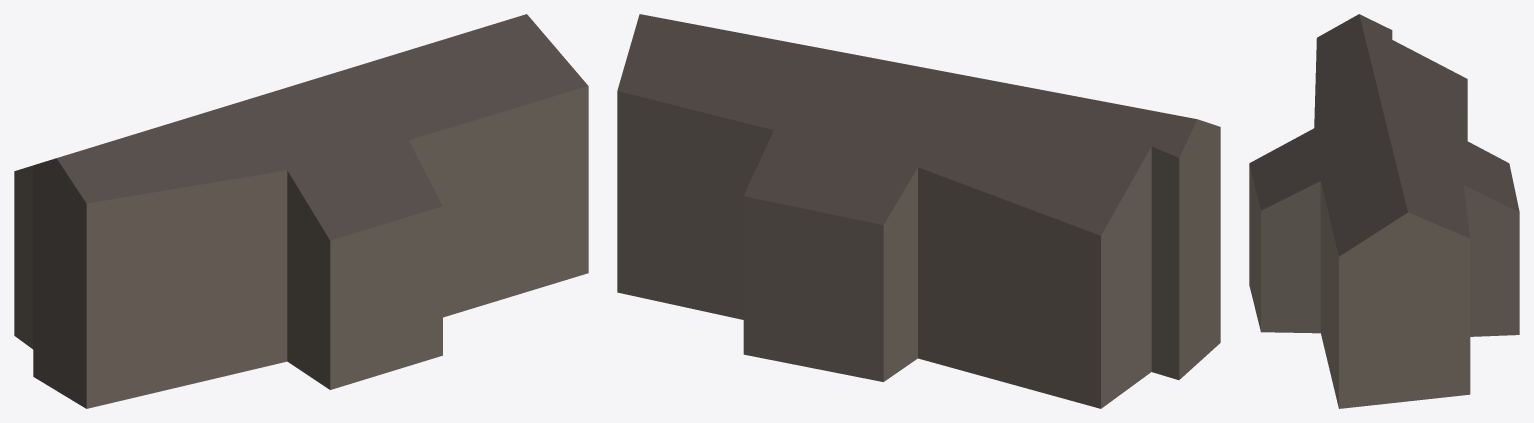
The picture shows the model from 3 angles, left to right: view 1: azimuth 30°, elevation 25°; view 2: azimuth 150°, elevation 25°; view 3: azimuth 270°, elevation 25°; orthographic projection. The views are drawn at different scales.
Visible parts, largest first — view 1: HP-w1512530036; view 2: HP-w1512530036; view 3: HP-w1512530036.
Boxes of the visible parts, <box> form: HP-w1512530036: <box>14,14,588,408</box>; HP-w1512530036: <box>617,14,1220,408</box>; HP-w1512530036: <box>1249,14,1519,408</box>.
Size of the model in its own units: 32.94 by 14.02 by 18.18.
